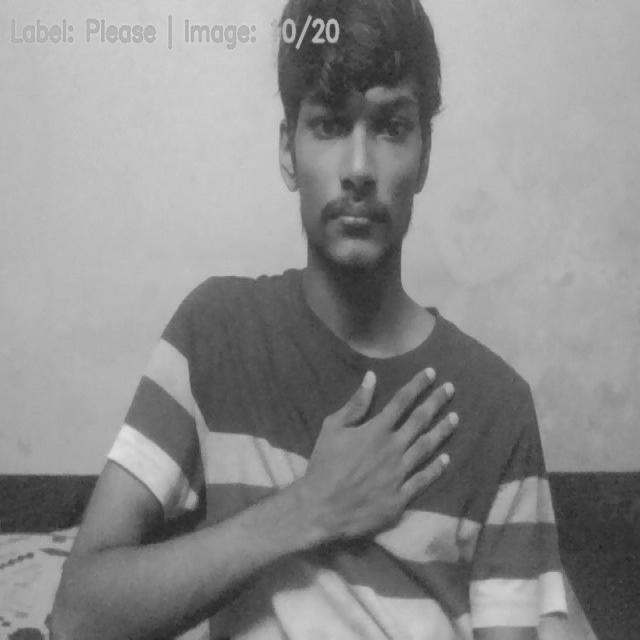Please: (310, 363, 460, 545)
